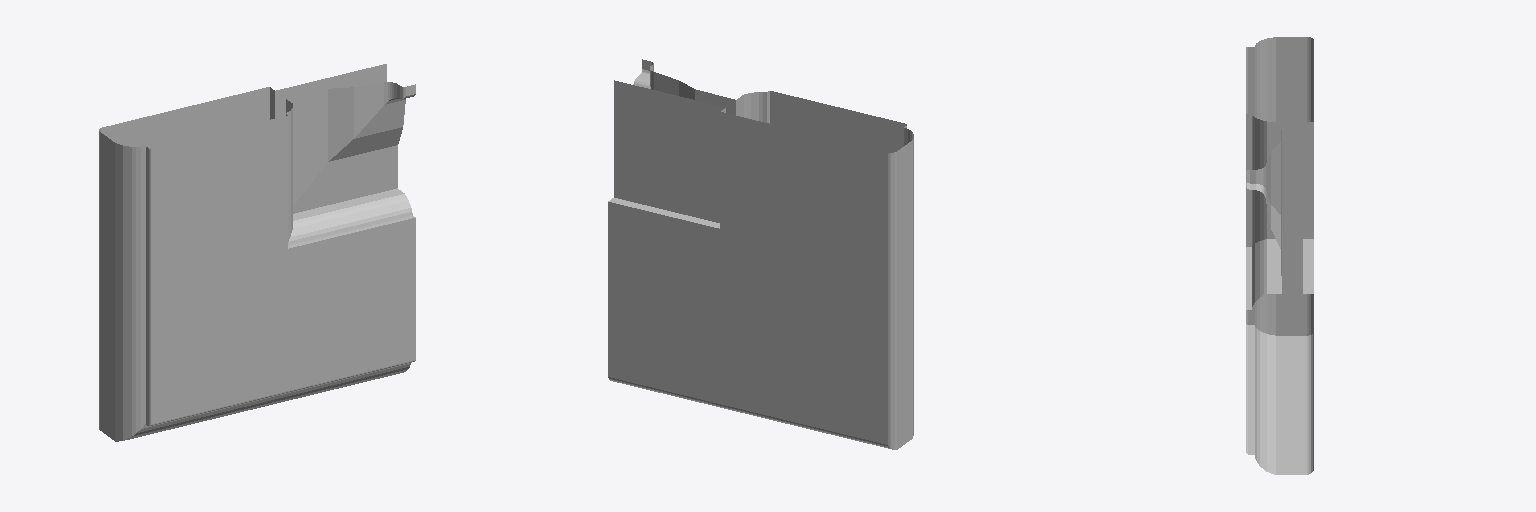
The model's file is original-89.obj.
The picture shows the model from 3 angles: view 1: azimuth 30°, elevation 25°; view 2: azimuth 150°, elevation 25°; view 3: azimuth 270°, elevation 25°; orthographic projection.
Parts seen in each view (by area): view 1: LT_11_BL1/LT_11_BL/mesh41/mesh41-geometry#mesh41-geometry; view 2: LT_11_BL1/LT_11_BL/mesh41/mesh41-geometry#mesh41-geometry; view 3: LT_11_BL1/LT_11_BL/mesh41/mesh41-geometry#mesh41-geometry.
Part boxes in pixels (bbox=[...]): LT_11_BL1/LT_11_BL/mesh41/mesh41-geometry#mesh41-geometry: bbox=[99, 64, 415, 441]; LT_11_BL1/LT_11_BL/mesh41/mesh41-geometry#mesh41-geometry: bbox=[608, 59, 913, 449]; LT_11_BL1/LT_11_BL/mesh41/mesh41-geometry#mesh41-geometry: bbox=[1246, 37, 1313, 474].
Bounding box in the file's own units: 0.1303 × 0.1303 × 0.027.